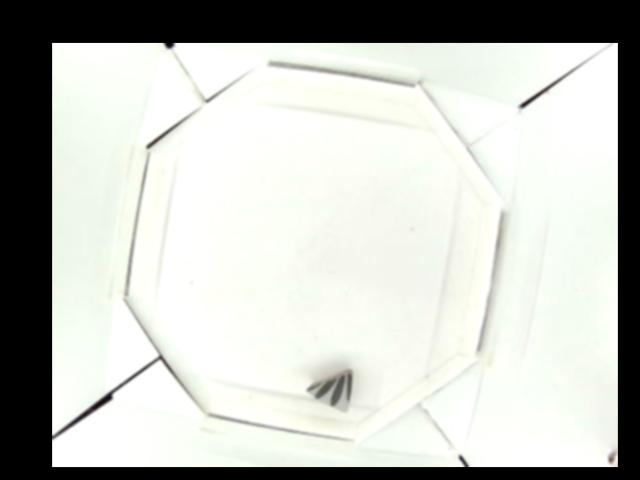China: (306, 368, 352, 412)
